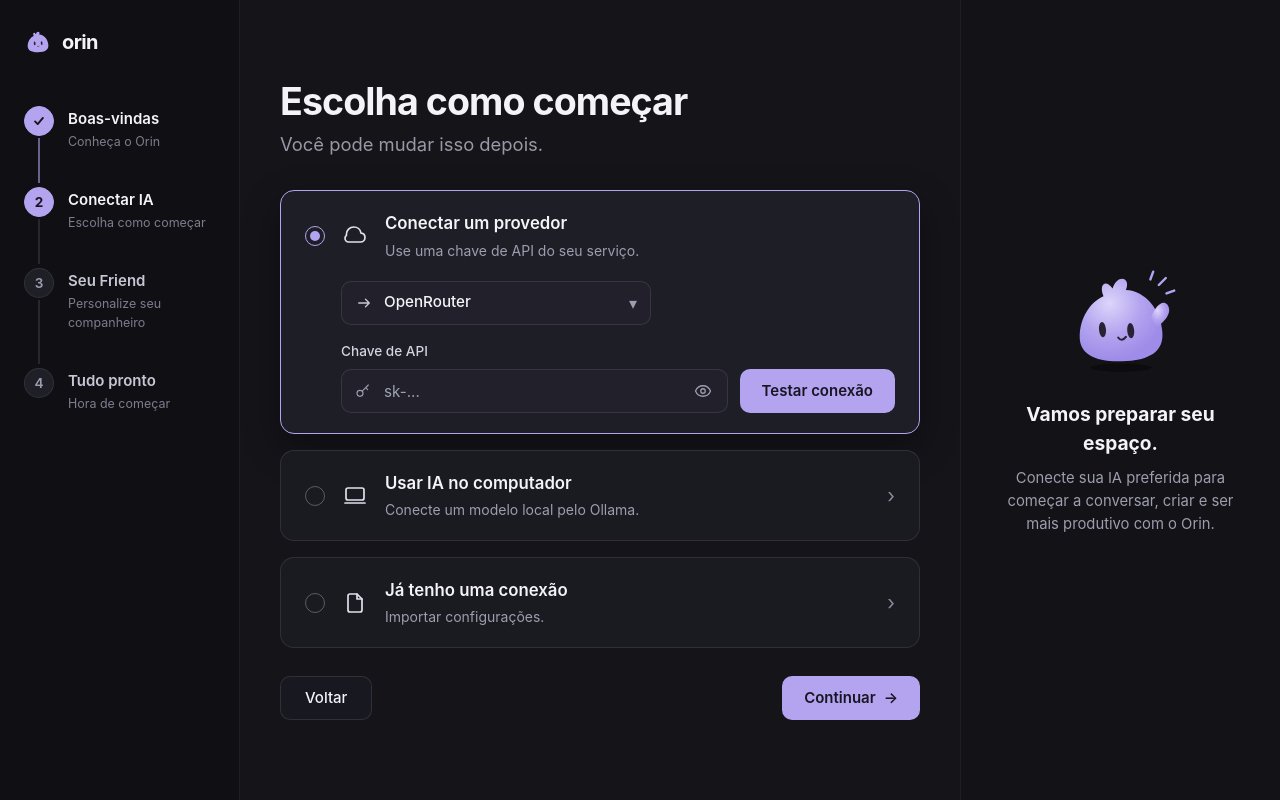
it: OnboardingWizard (ref-02.png) › permite escolher o provedor, alternar visibilidade da chave (👁) e testar conexão exibindo o badge verde "Conexão verificada"
This screenshot has width=1280, height=800.
Expected: the dropdown named "Provedor de IA" shows "OpenRouter", top-left (341, 281), bottom-right (651, 325)
Step 1. Type "sk-or-v1-secret-token-12345" into the password field labelled "Chave de API" → (534, 391), box top-left (341, 369), bottom-right (728, 413)
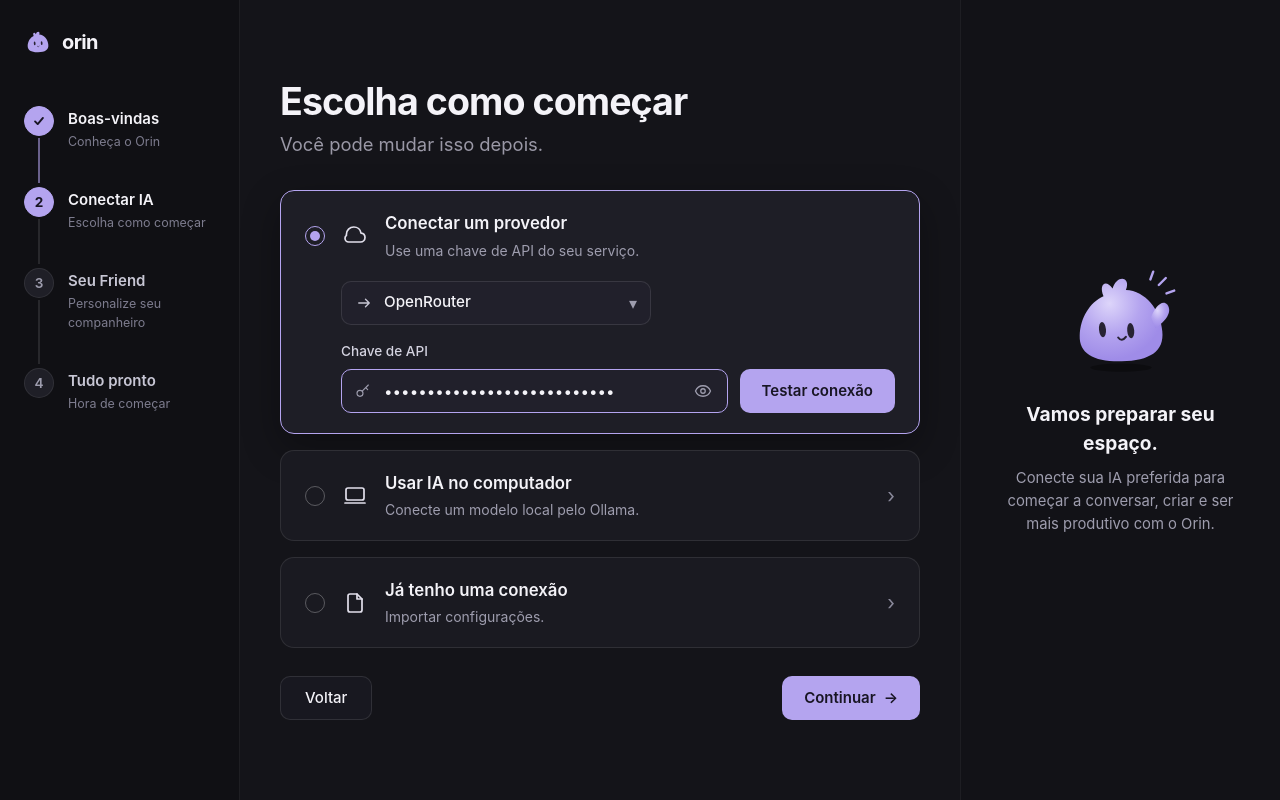
Step 2. Click the button with test id "onboarding-toggle-key-visibility" → (703, 391), box top-left (688, 376), bottom-right (718, 406)
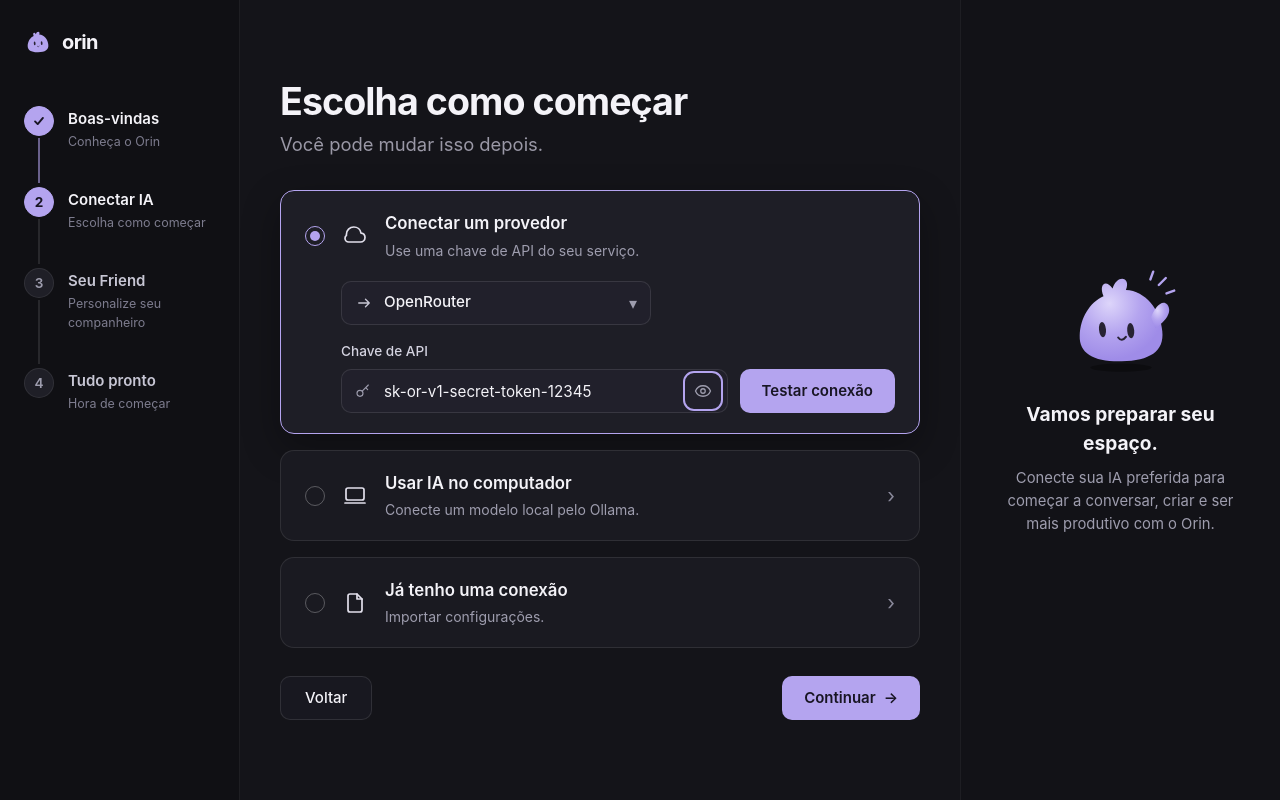
Now the field labelled "Chave de API" shows its text, box top-left (341, 369), bottom-right (728, 413)
Step 3. Click the button with test id "onboarding-toggle-key-visibility" → (703, 391), box top-left (688, 376), bottom-right (718, 406)
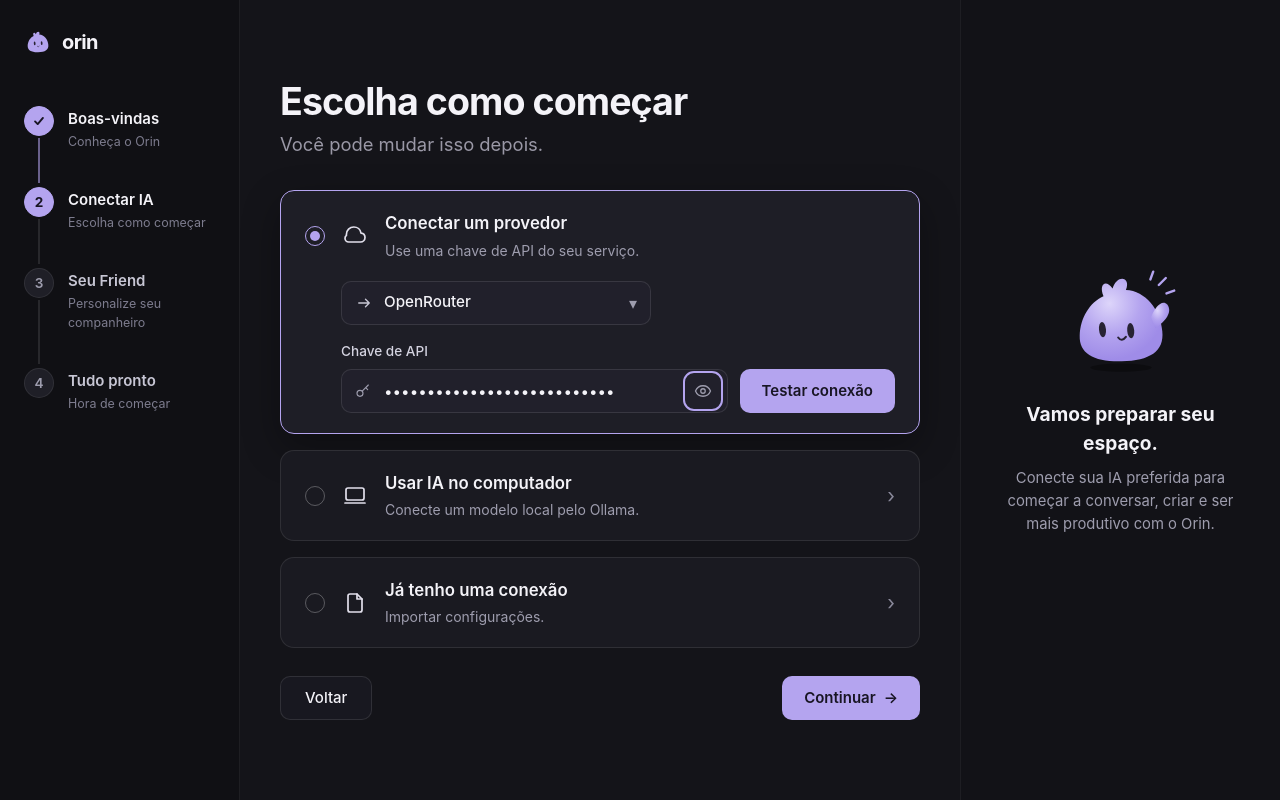
Now the password field labelled "Chave de API" hides its text, box top-left (341, 369), bottom-right (728, 413)
Step 4. Click the button with test id "onboarding-test-connection" → (817, 391), box top-left (740, 369), bottom-right (895, 413)
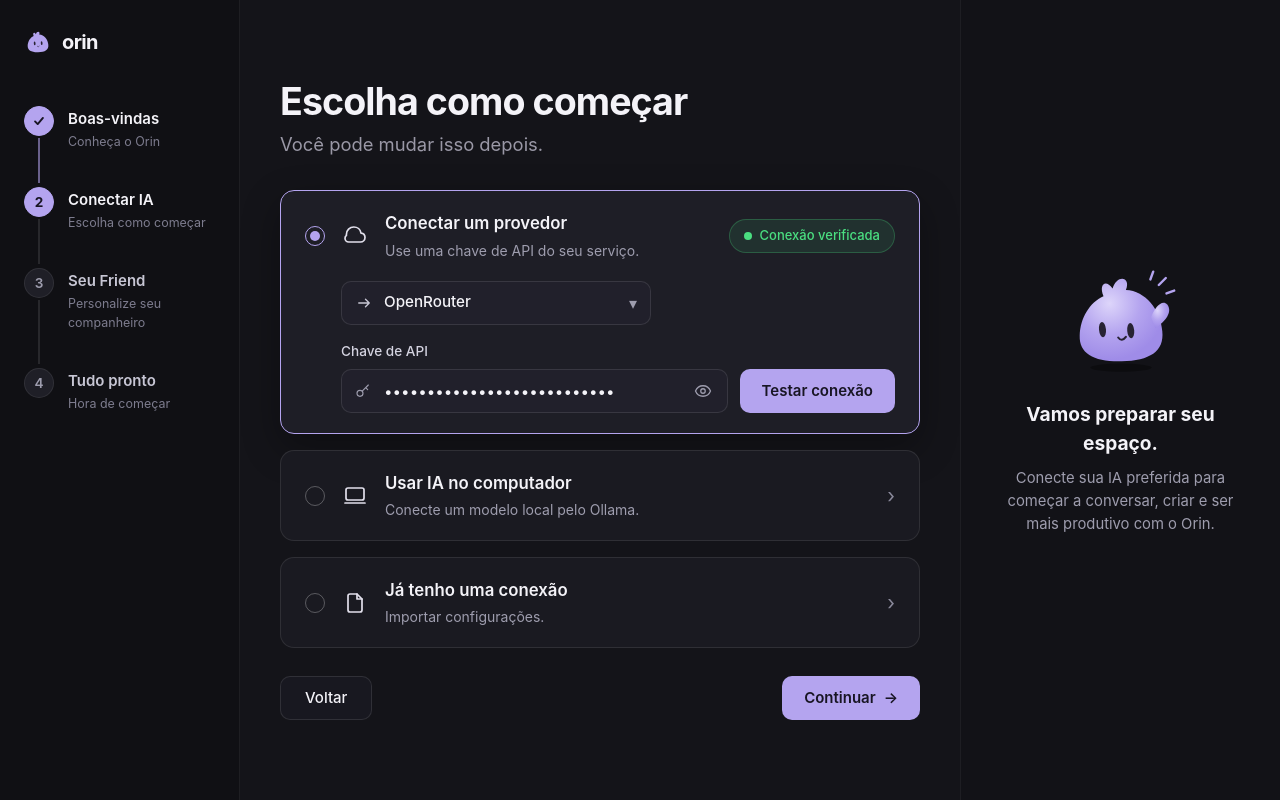
Now the element with test id "onboarding-connection-verified" is shown, box top-left (728, 219), bottom-right (895, 253)
Now the element with test id "onboarding-connection-verified" reads "Conexão verificada", box top-left (760, 227), bottom-right (880, 243)
// [Red-Team] Alterar a chave após verificação invalida imediatamente o selo "Conexão verificada"
Step 5. Type "x" into the password field labelled "Chave de API" → (534, 391), box top-left (341, 369), bottom-right (728, 413)
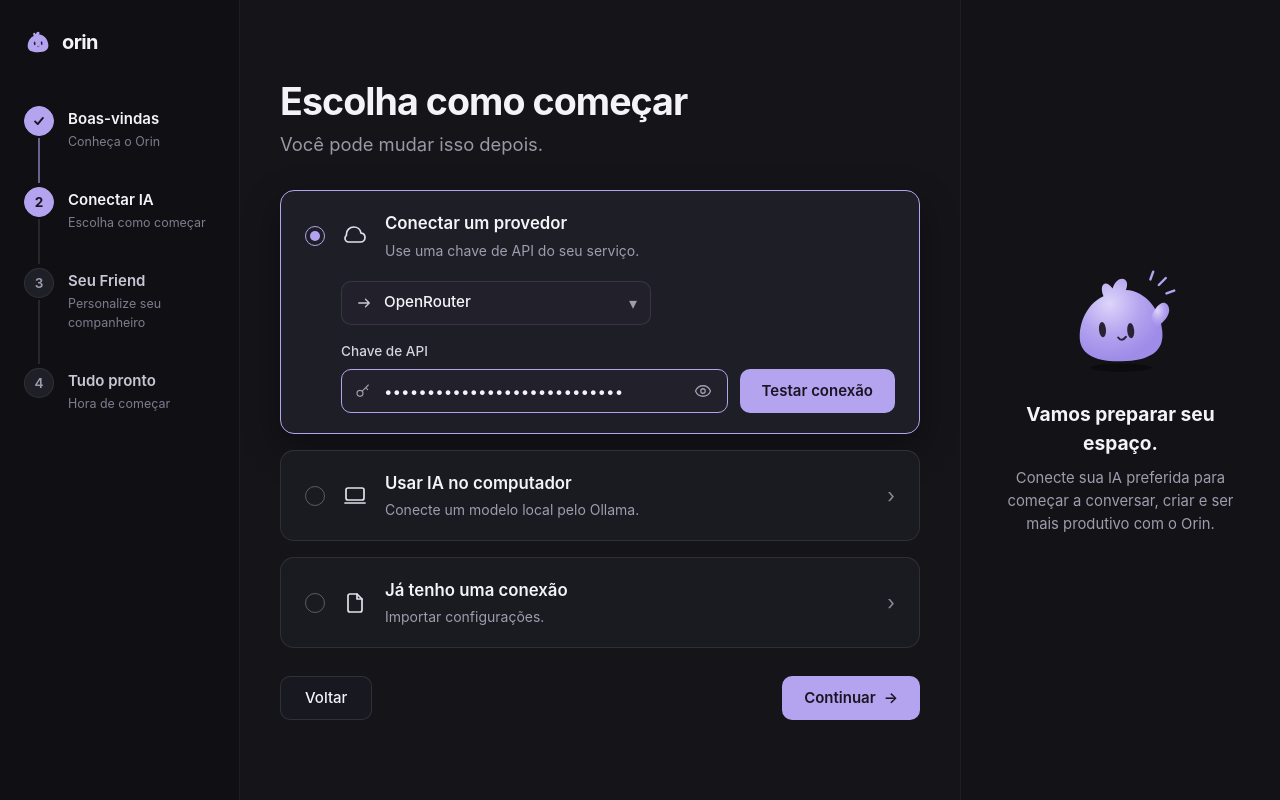
Now the element with test id "onboarding-connection-verified" is gone
